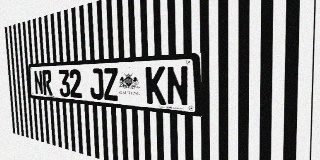2: (69, 69, 82, 98)
3: (58, 69, 70, 97)
J: (89, 68, 104, 100)
K: (145, 66, 166, 105)
N: (166, 65, 189, 107), (34, 70, 43, 95)
R: (42, 70, 53, 96)
Z: (103, 68, 119, 101)
